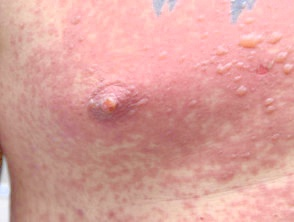SJS-TEN: (2, 0, 293, 221)
